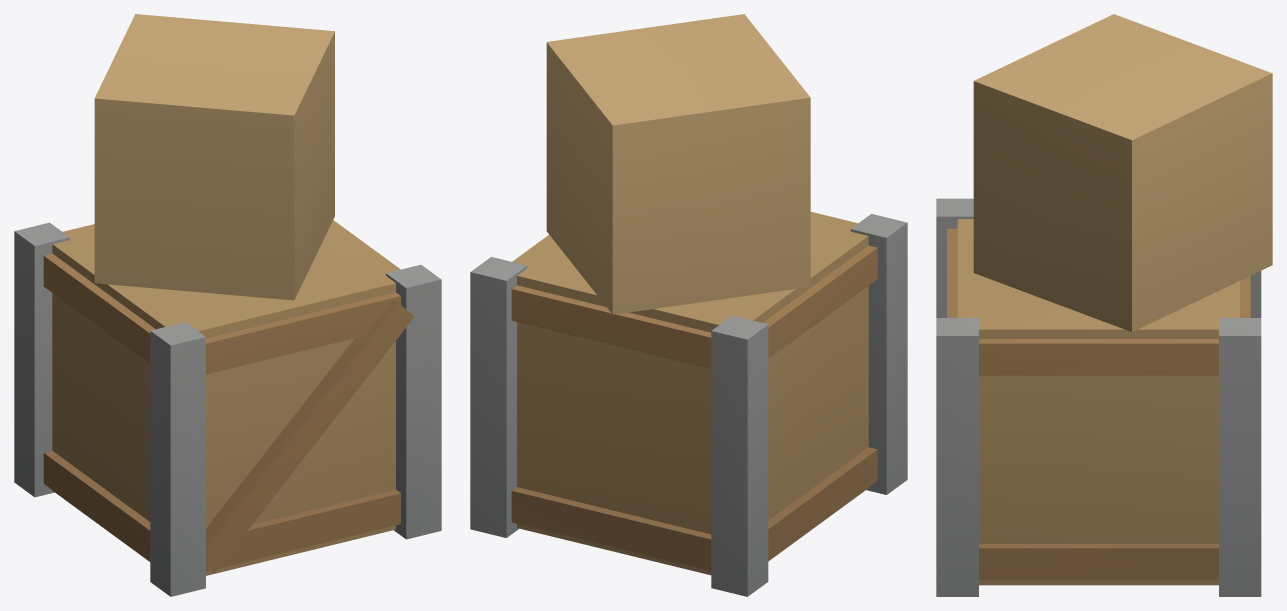
File: cen_valak_caixa_2.glb
3 views of the same model, side by side, from view 1: azimuth 30°, elevation 25°; view 2: azimuth 150°, elevation 25°; view 3: azimuth 270°, elevation 25° (orthographic). The views are drawn at different scales.
Visible parts, largest first — view 1: caixa; view 2: caixa; view 3: caixa.
Part boxes in pixels (<box>): caixa: <box>14,14,441,596</box>; caixa: <box>470,14,907,596</box>; caixa: <box>936,14,1272,596</box>.
Size of the model in its own units: 0.92 by 1.41 by 0.952.
